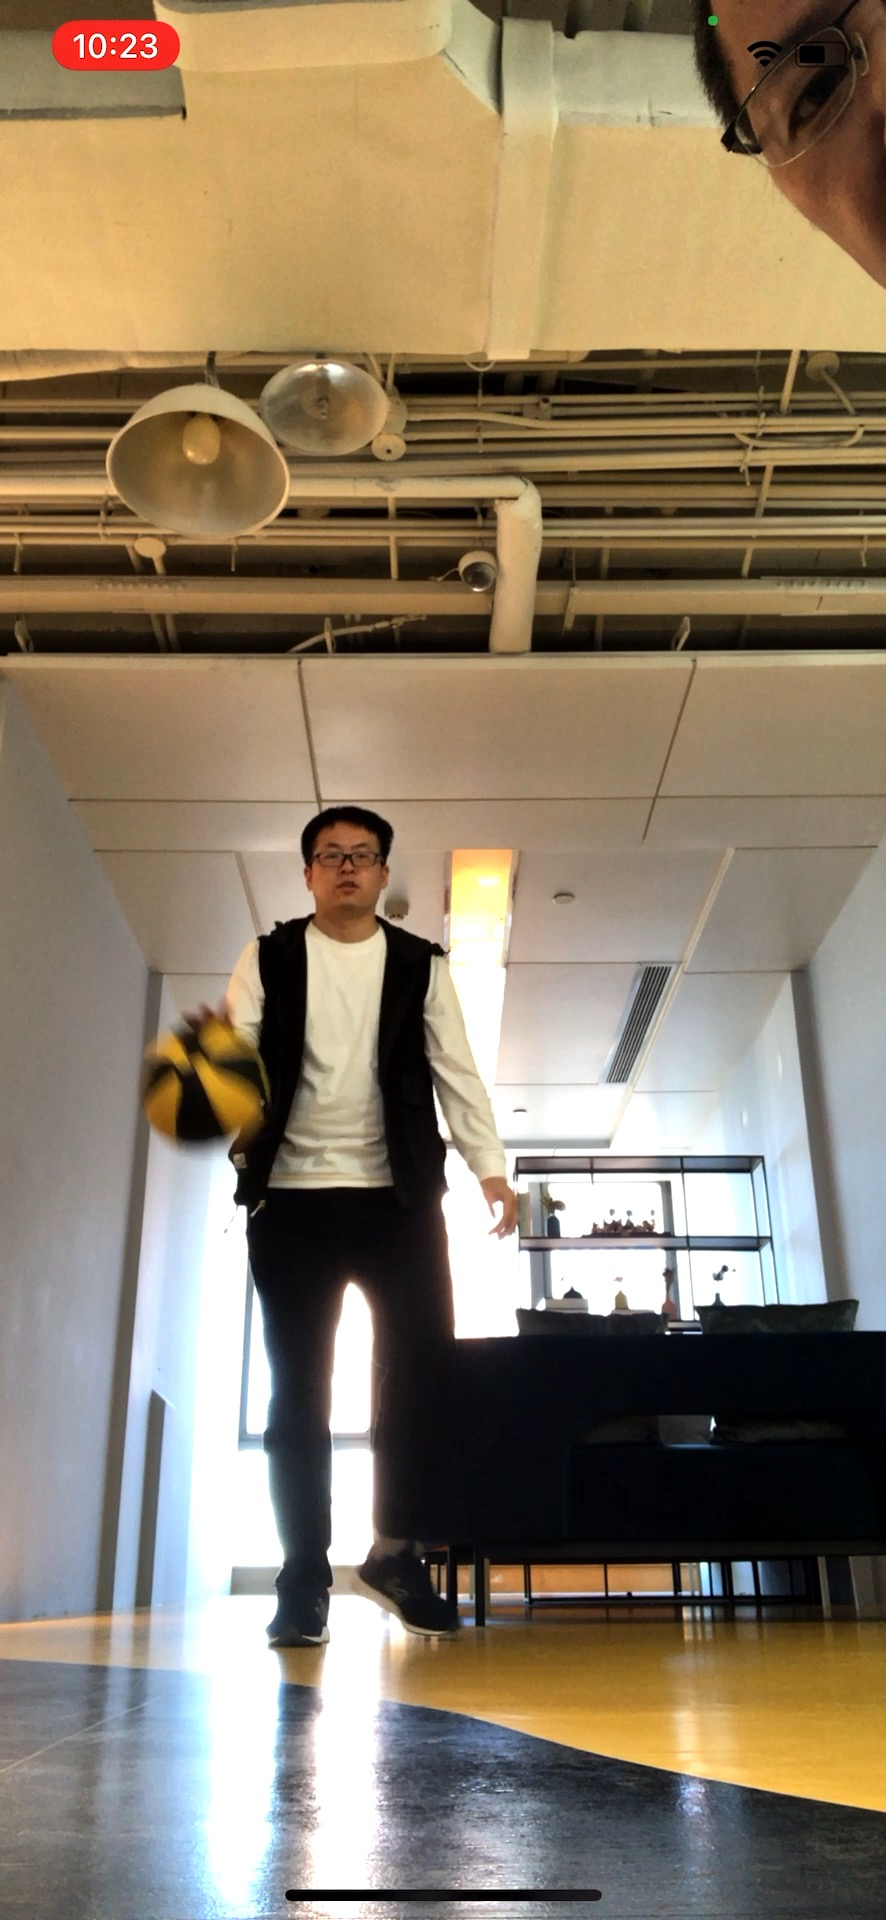ball: (135, 1022, 266, 1151)
